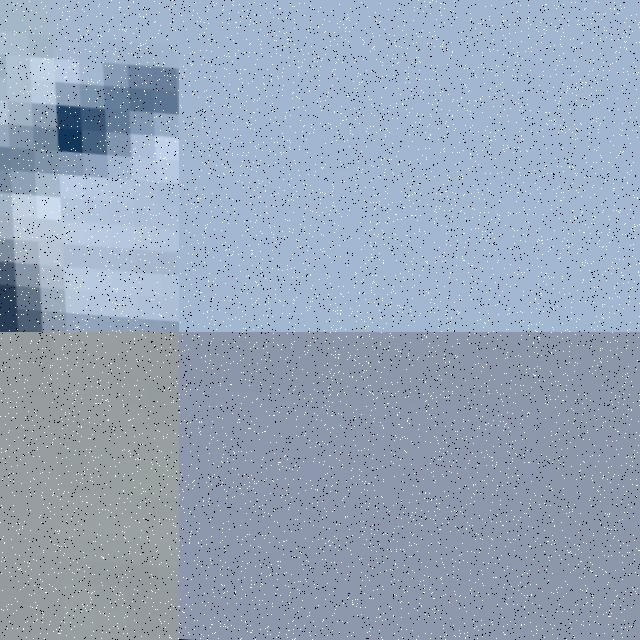drone: (0, 0, 179, 332), (0, 332, 179, 640)
